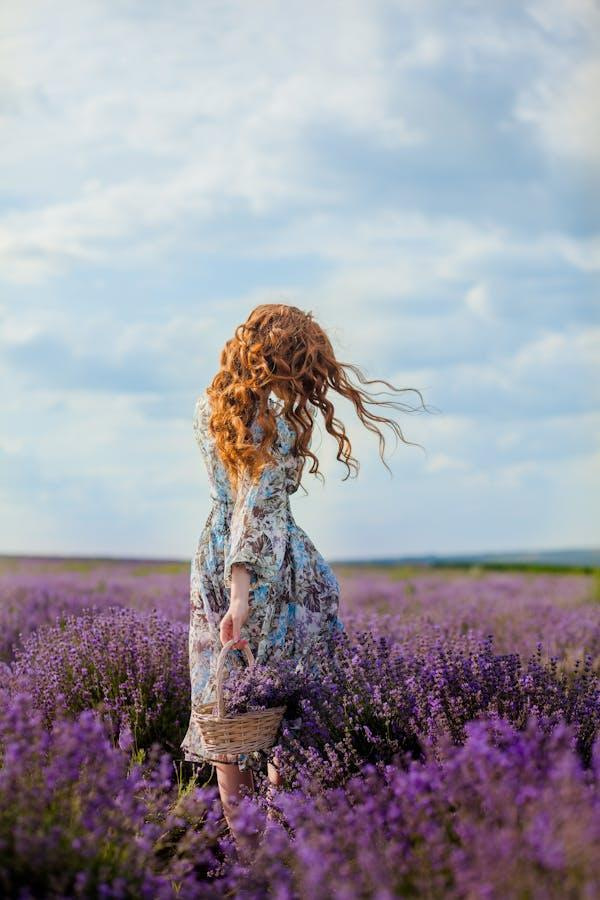NoHuman: (0, 0, 582, 900)
